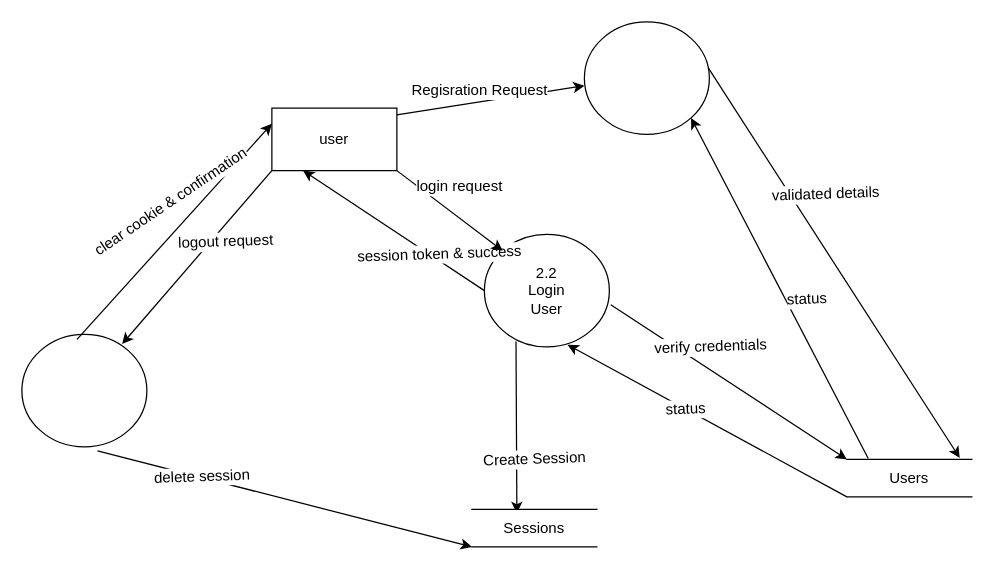
This 994x579 diagram has some shape labels left out. Here are the shapes that lost their labels. From the top down, the centre of each, then its label:
point 646,77: 2.1 User Registration
point 84,390: 2.3 Logout User
